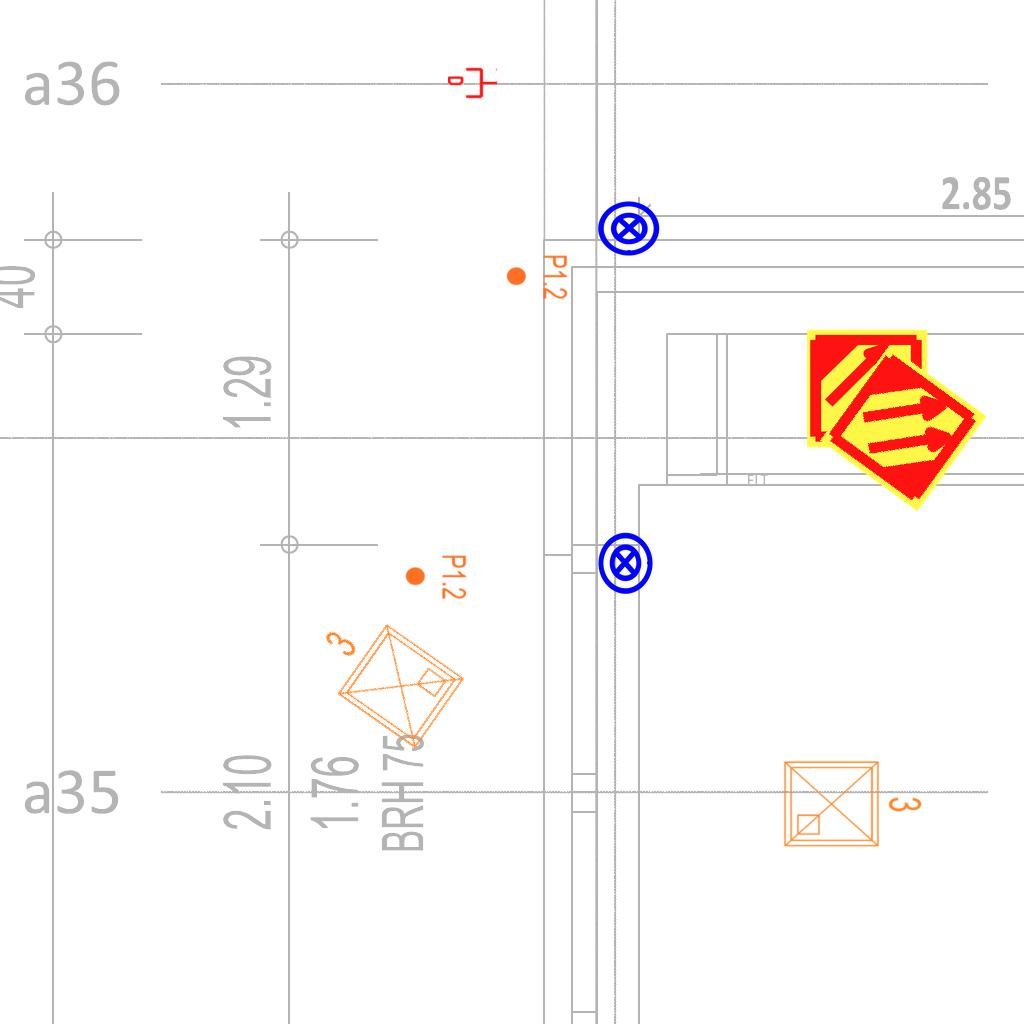ASR_Ansaugrauchmelder: (816, 341, 991, 516), (805, 326, 930, 451)
Datenanschluss_einfach: (448, 66, 498, 100)
Downlight_LED_Einbauleuchten_Flur: (505, 254, 569, 300), (404, 554, 468, 600)
Einbaudownlights_LED_Konferenzraeume: (291, 590, 475, 762), (777, 750, 927, 854)
Taster_beleuchtet: (592, 530, 658, 596), (596, 195, 662, 261)
